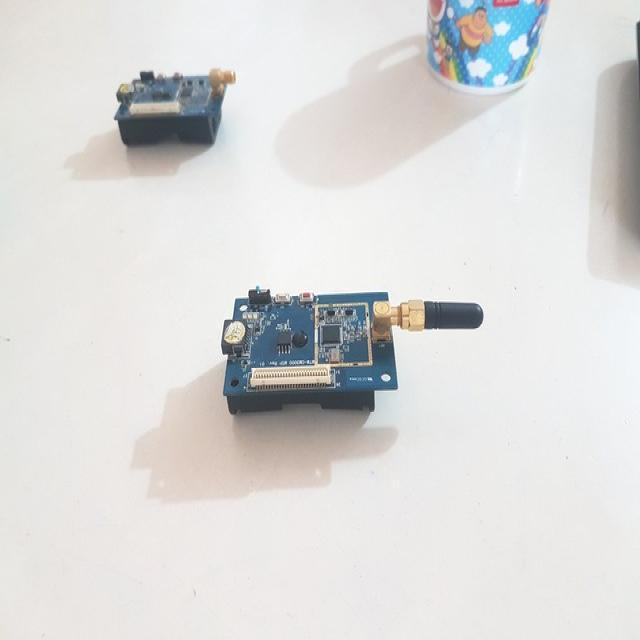TelosB: (222, 289, 484, 415), (115, 70, 236, 144)
